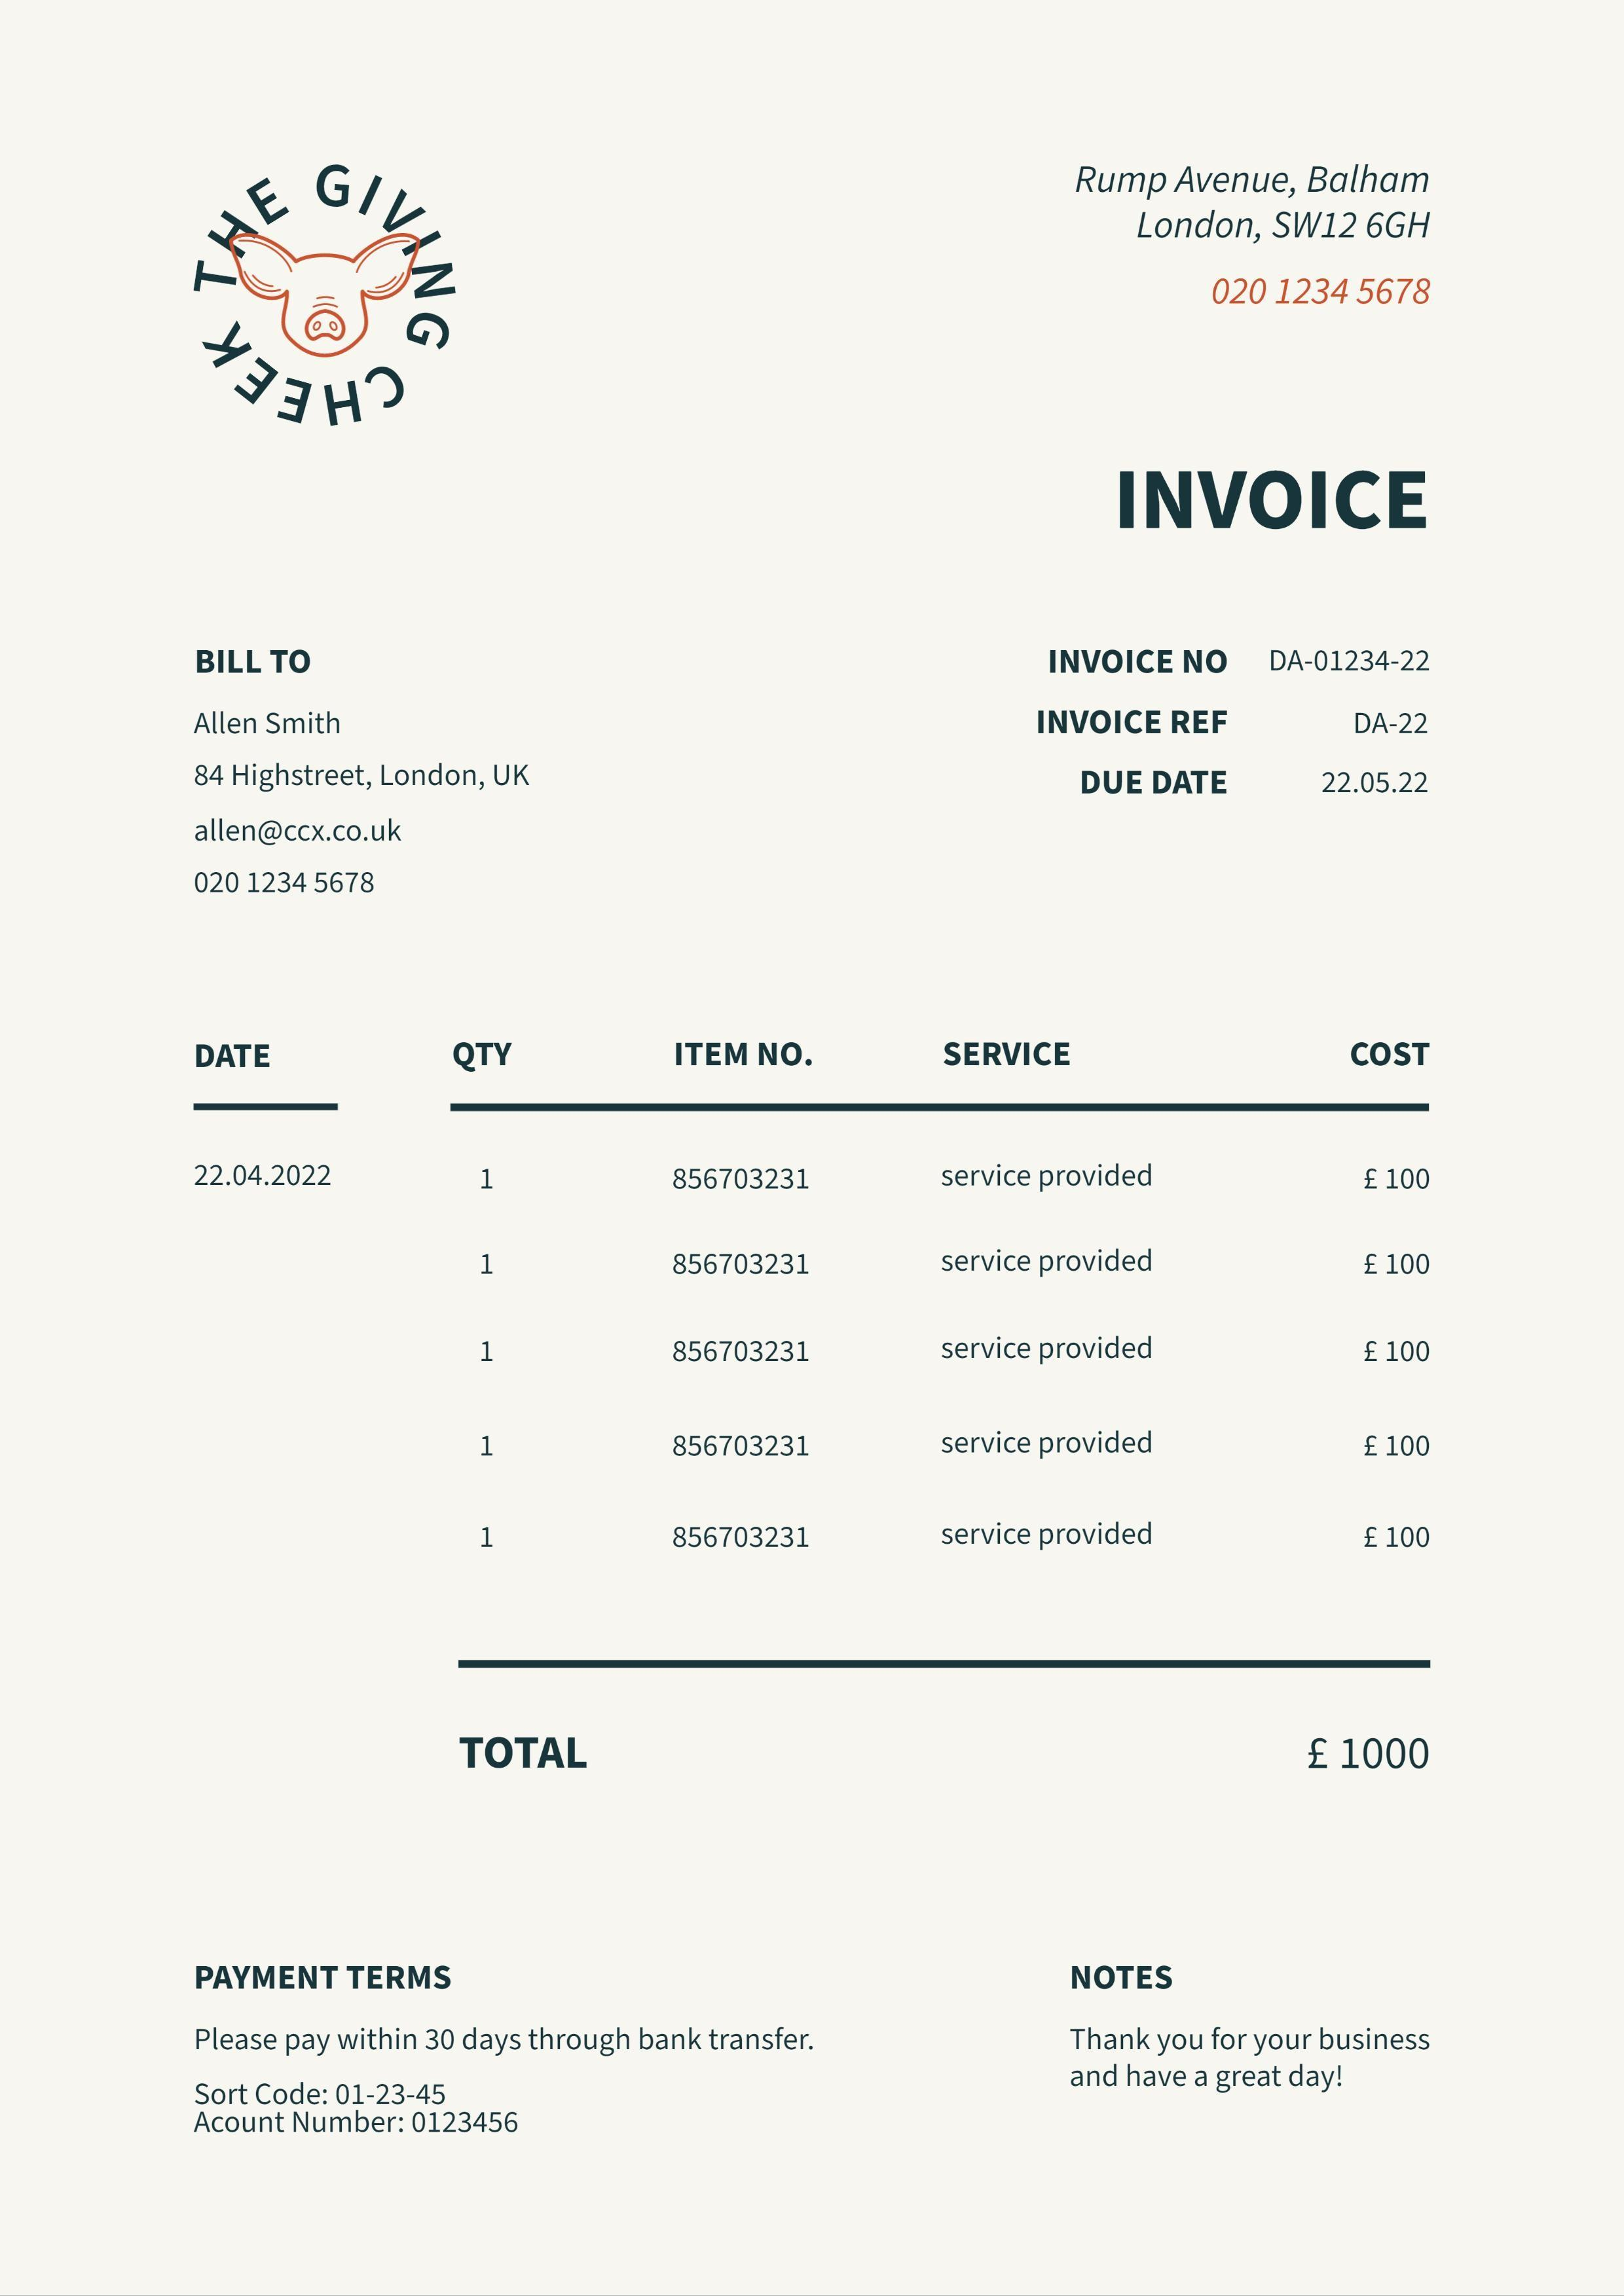ROI: (432, 1021, 1462, 1679), (167, 1932, 840, 2189), (156, 585, 564, 919), (134, 118, 508, 458), (1021, 597, 1478, 819), (438, 1725, 1459, 1808)
